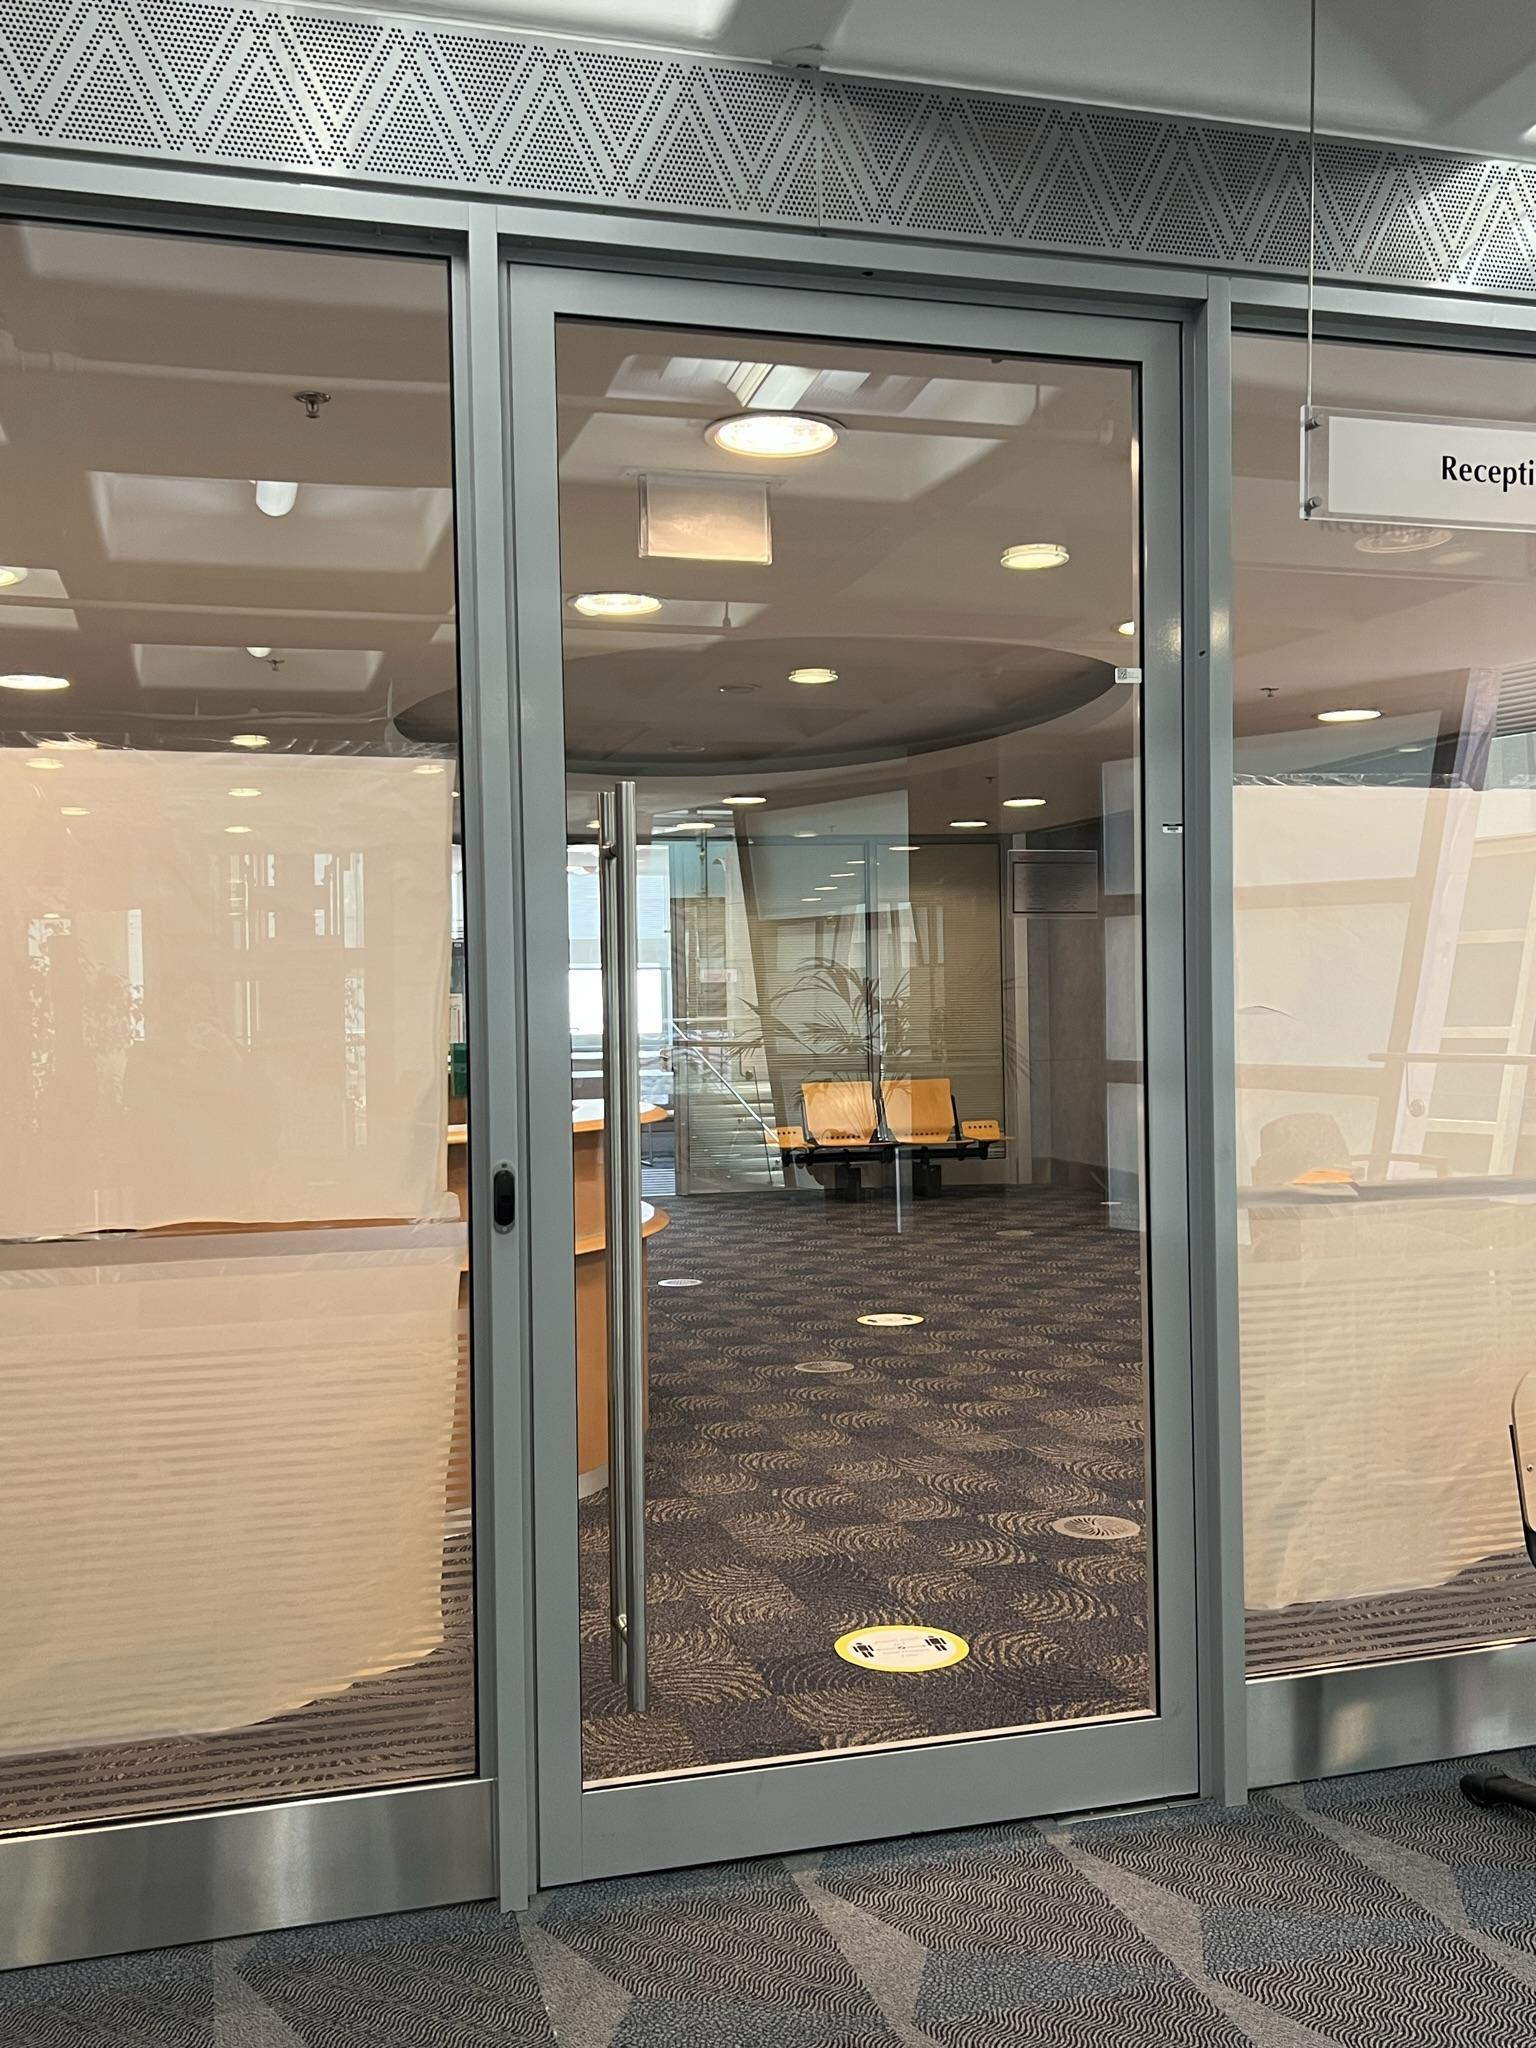door: (502, 240, 1200, 1858)
handle: (597, 771, 662, 1734)
